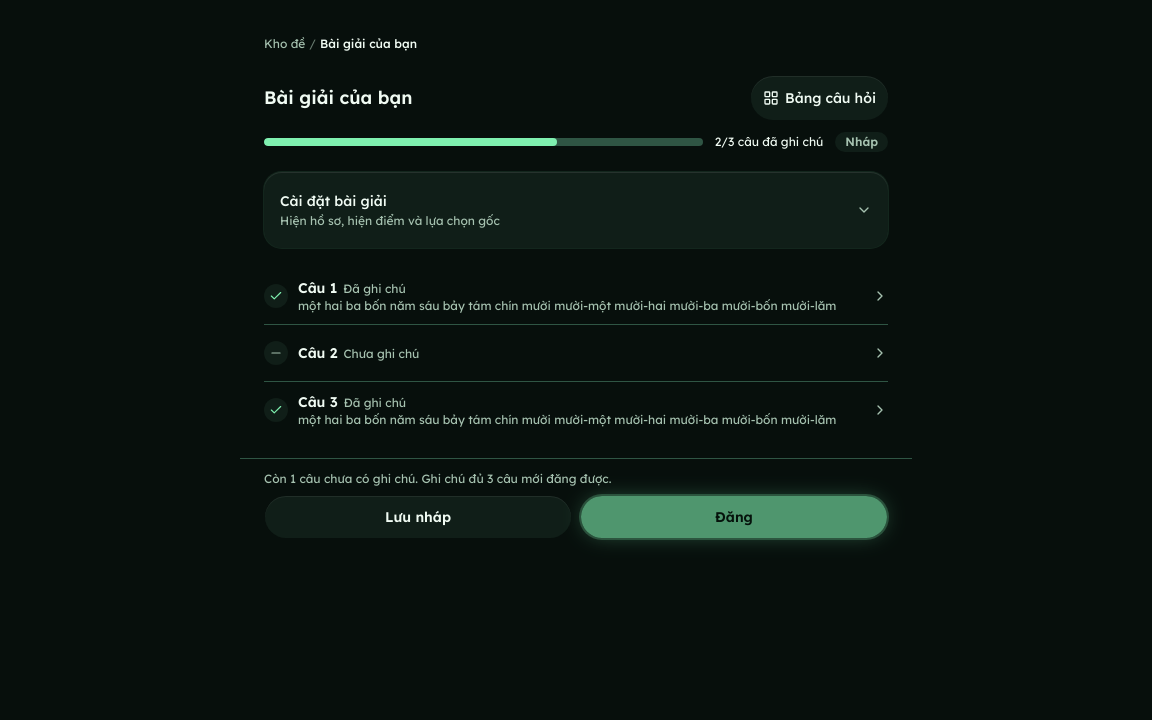
Scenario: SolutionEditorScreen — keyed-reducer re-render scope (row 9, NFR Hiệu năng proxy) › lưu ghi chú câu 2: chỉ hàng 2 + thanh tiến độ + thanh đáy render lại, hàng 1/3 giữ nguyên
Step 1. Click the button with aria-label "Câu 2," → [318, 353], box [264,325,888,381]
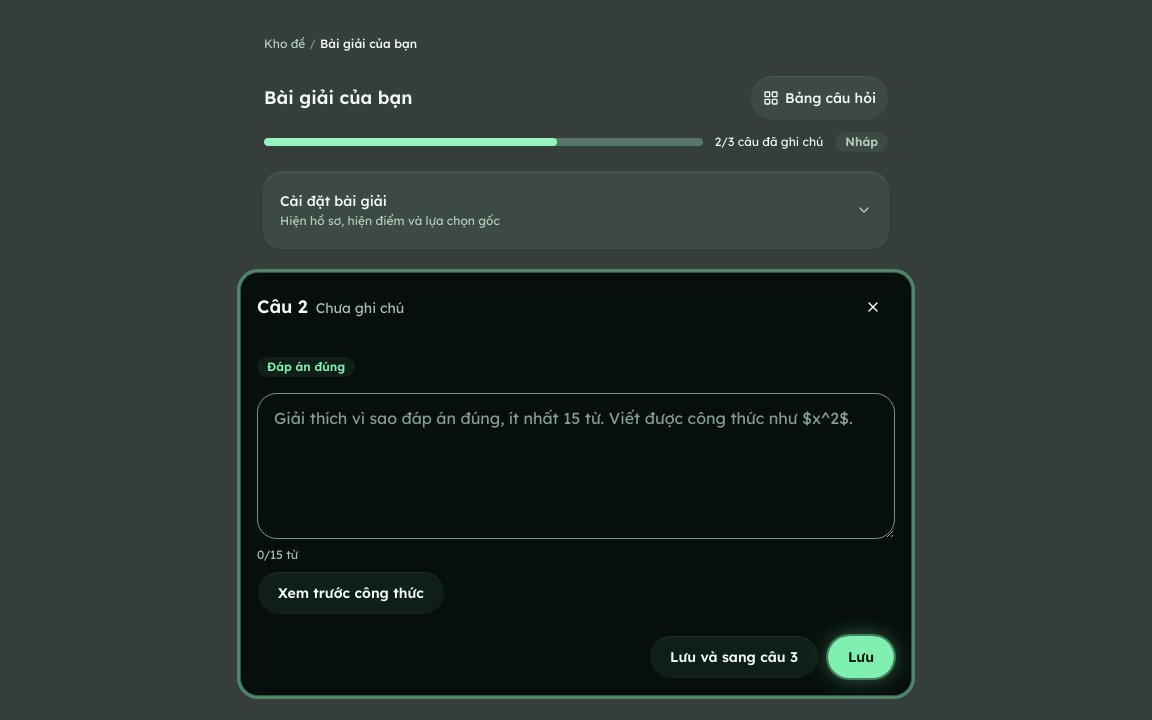
Step 2. Replace the text in the text box with "một hai ba bốn năm sáu bảy tám chín mười mười-một mười-hai mười-ba mười-bốn mười-lăm" → [576, 466], box [257,393,895,539]
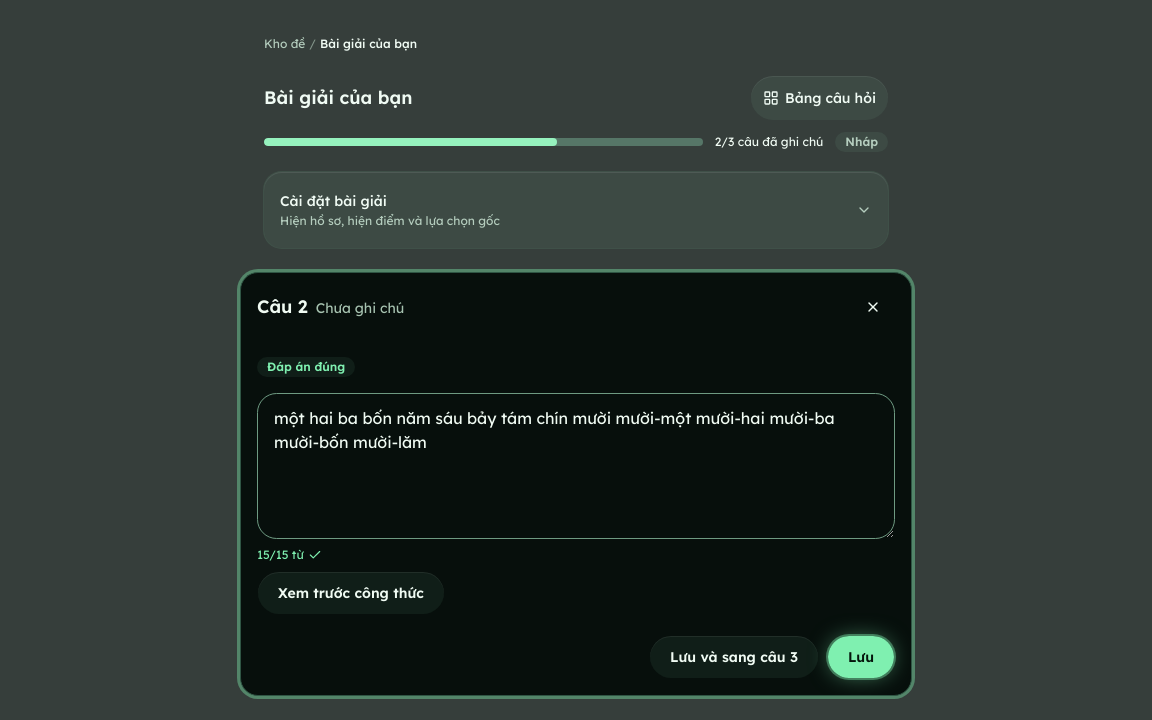
Step 3. Click the button "Lưu" → [861, 657], box [827,635,895,679]
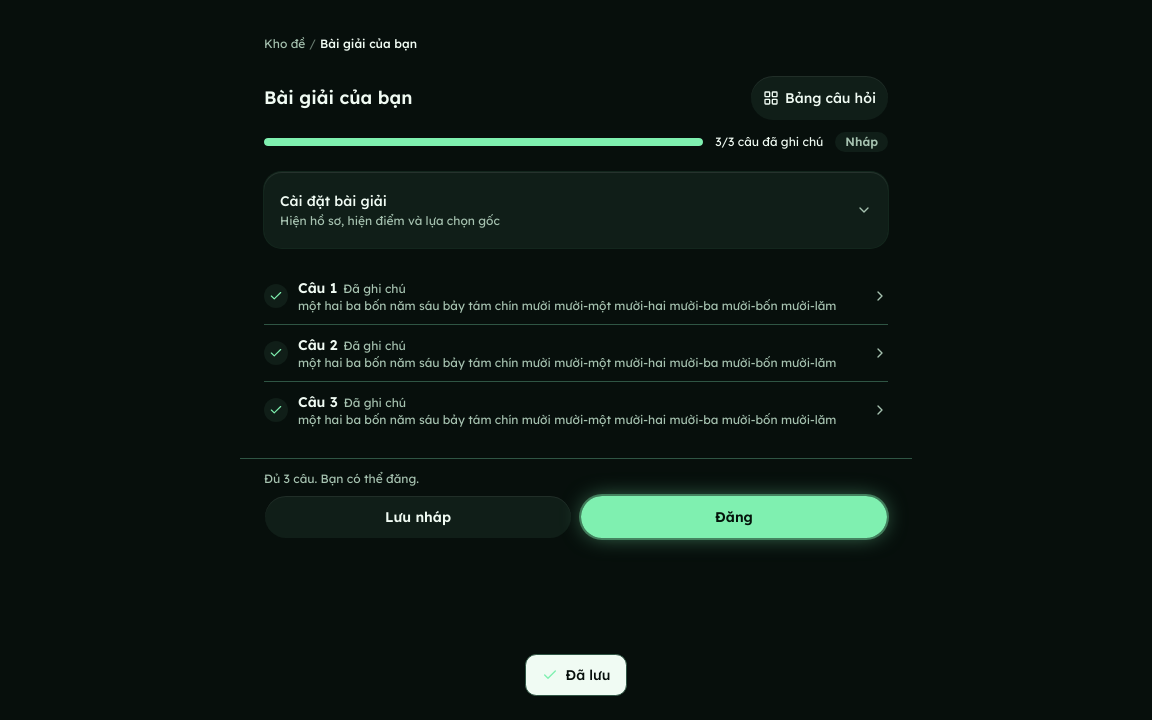
Expected: the button with aria-label "Câu 2, đã ghi chú" is shown, [264,325,888,381]
